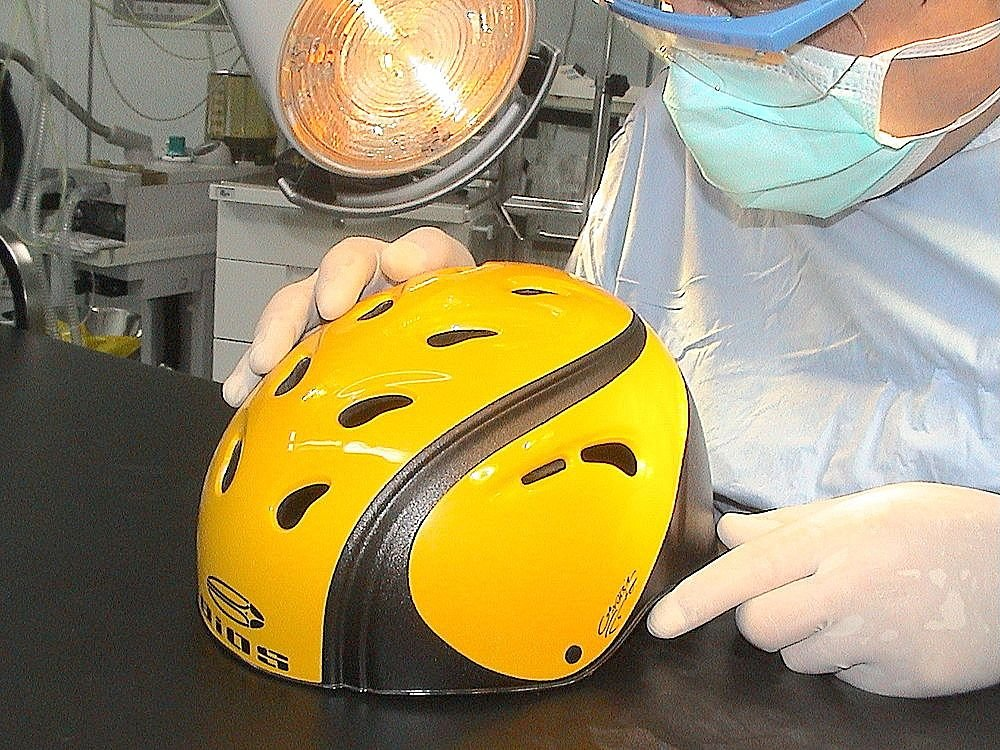helmet: (200, 254, 729, 672)
